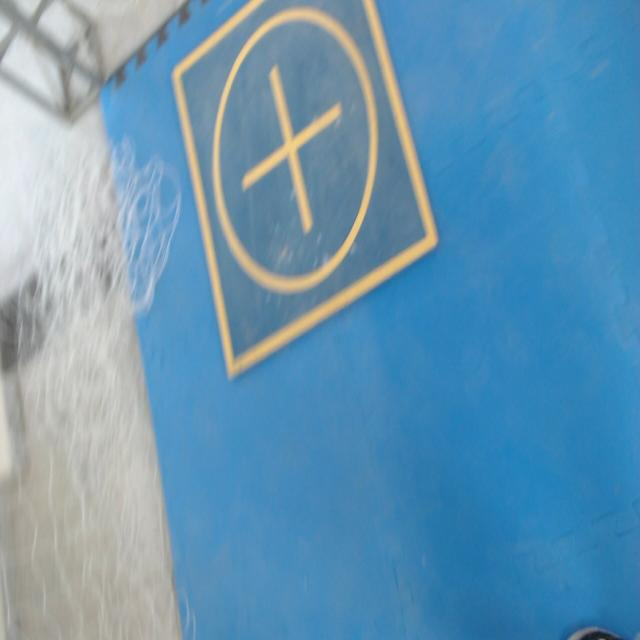base_pouso: (170, 0, 441, 381)
